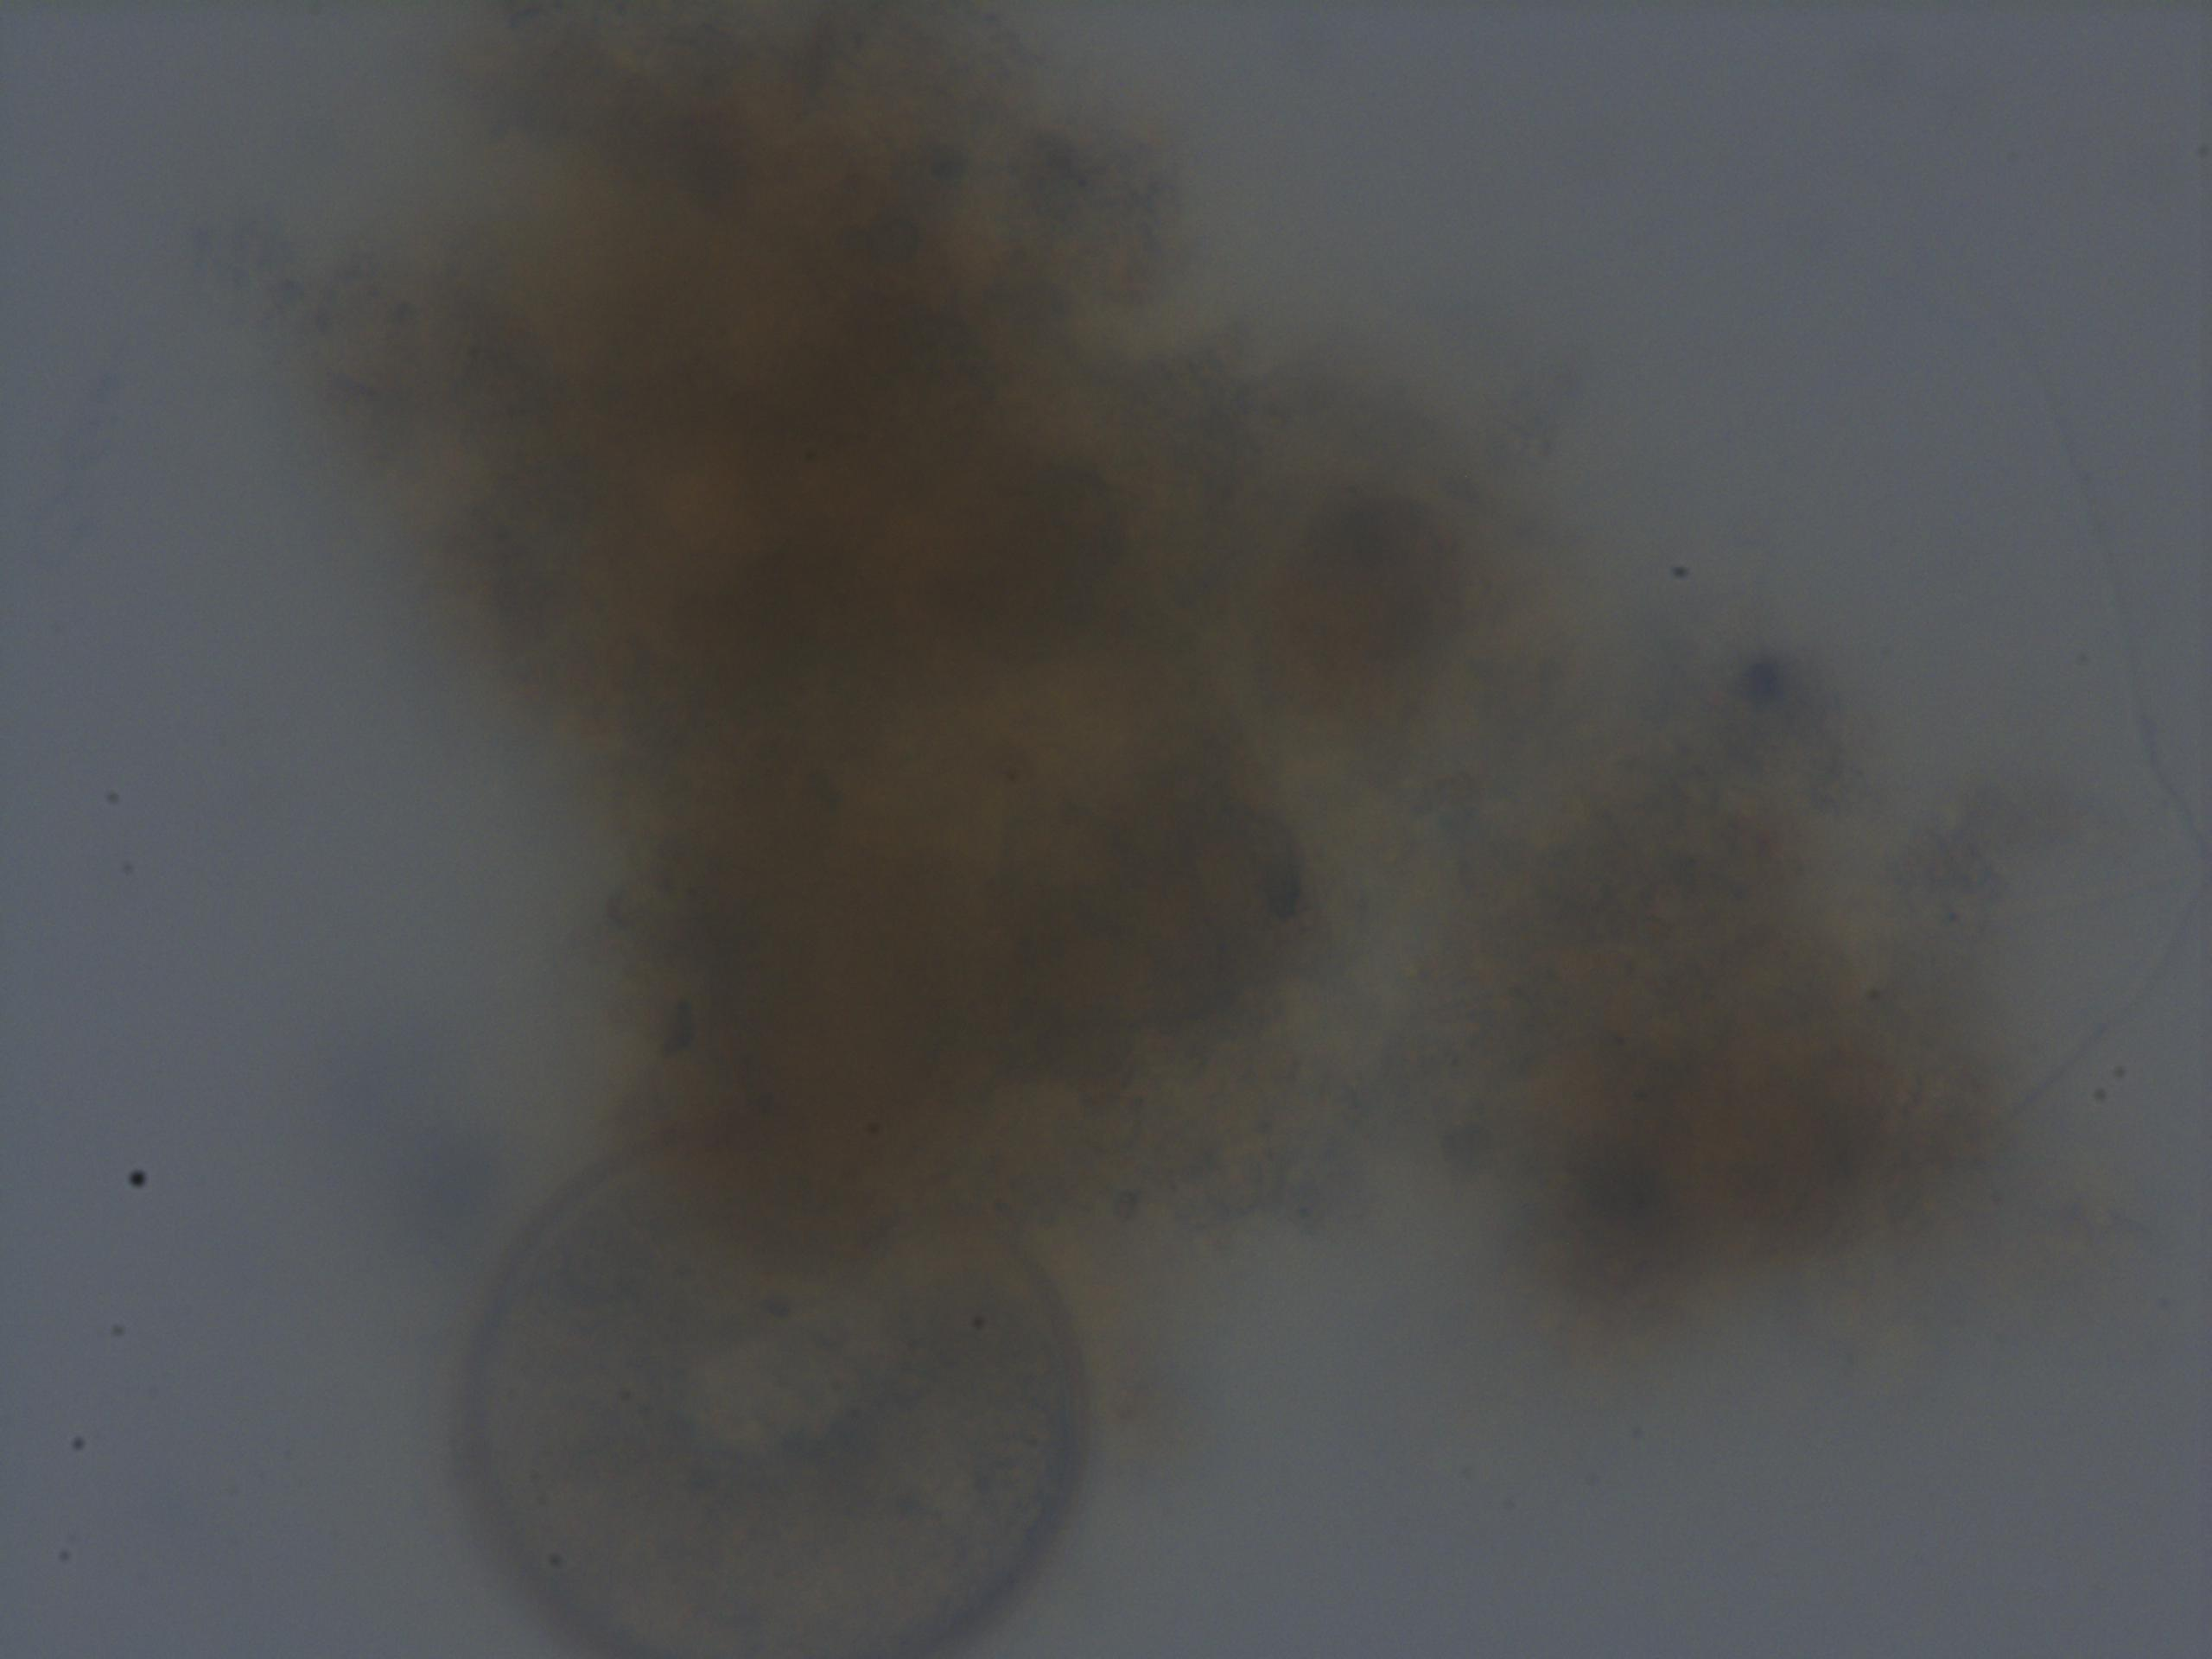protozoa: (437, 1124, 1157, 1635)
spherical_floc: (310, 0, 2038, 1310)
